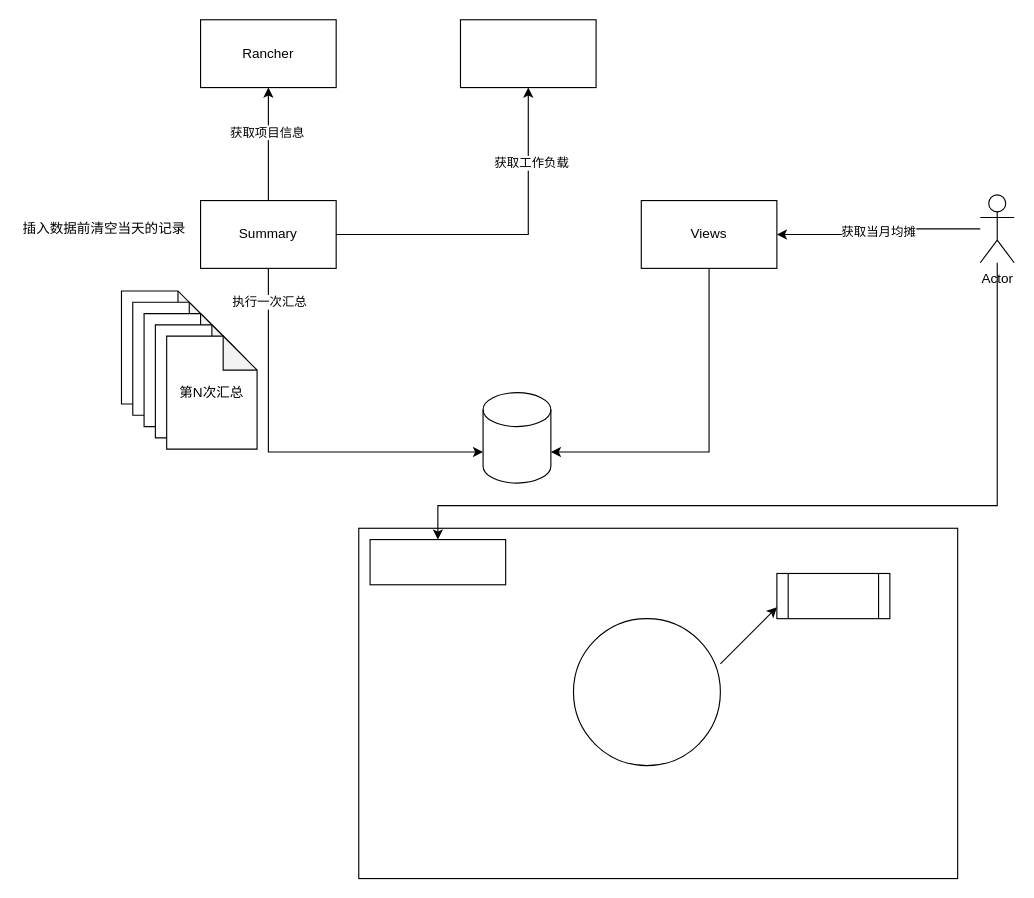
This 1034x898 diagram has some shape labels left out. The centre of each missing label's shape, as x and y in pixels:
"crc-itcp-test03" belongs at (x=437, y=561).
"K8S" belongs at (x=527, y=53).
